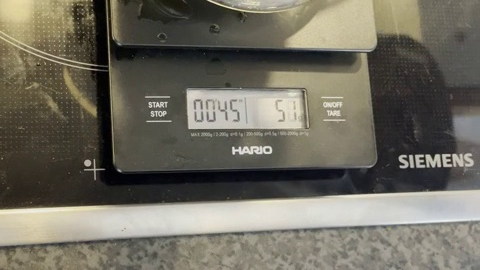display: (186, 88, 307, 128)
